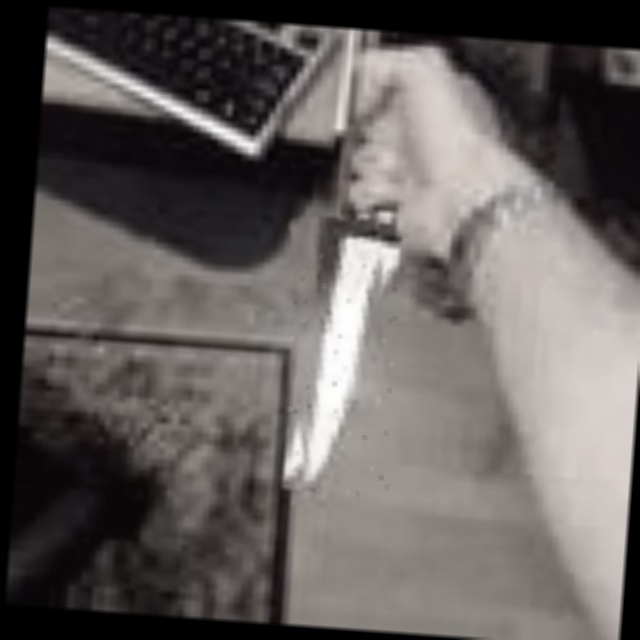Sharp-Object: (280, 209, 412, 497)
